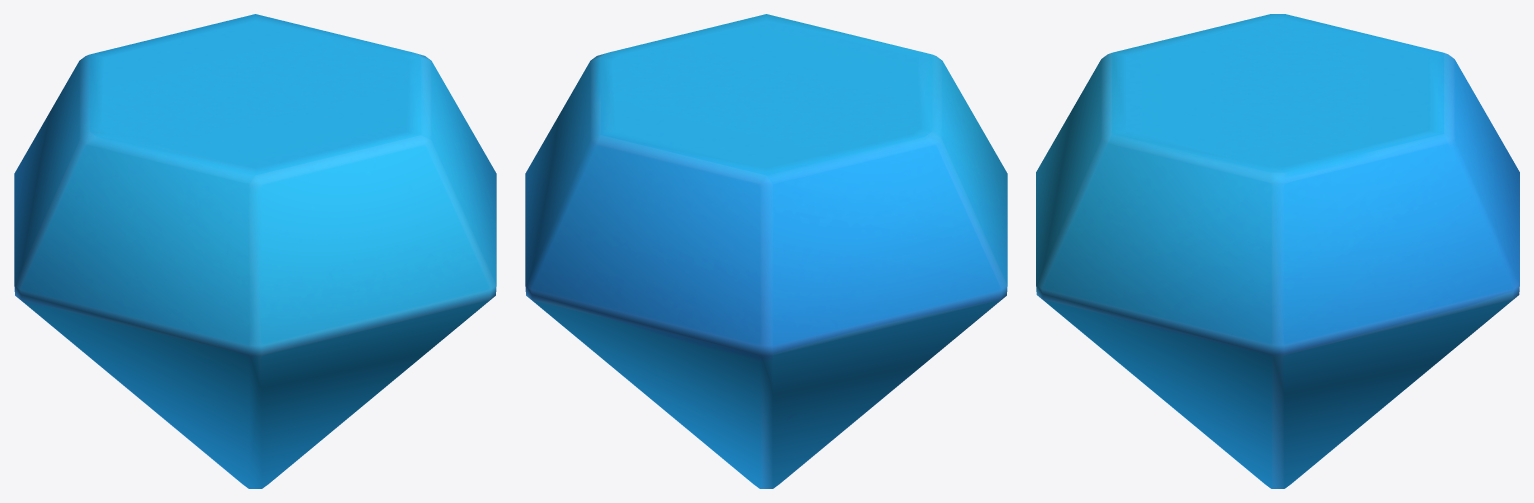
Rendered from Gem_1.fbx.
3 views of the same model, side by side, from view 1: azimuth 30°, elevation 25°; view 2: azimuth 150°, elevation 25°; view 3: azimuth 270°, elevation 25° (orthographic).
Parts seen in each view (by area): view 1: Diamond; view 2: Diamond; view 3: Diamond.
Part boxes in pixels (<box>): Diamond: <box>14,14,496,488</box>; Diamond: <box>525,14,1007,488</box>; Diamond: <box>1036,14,1519,488</box>.
Size of the model in its own units: 77.45 by 60.55 by 67.94.
